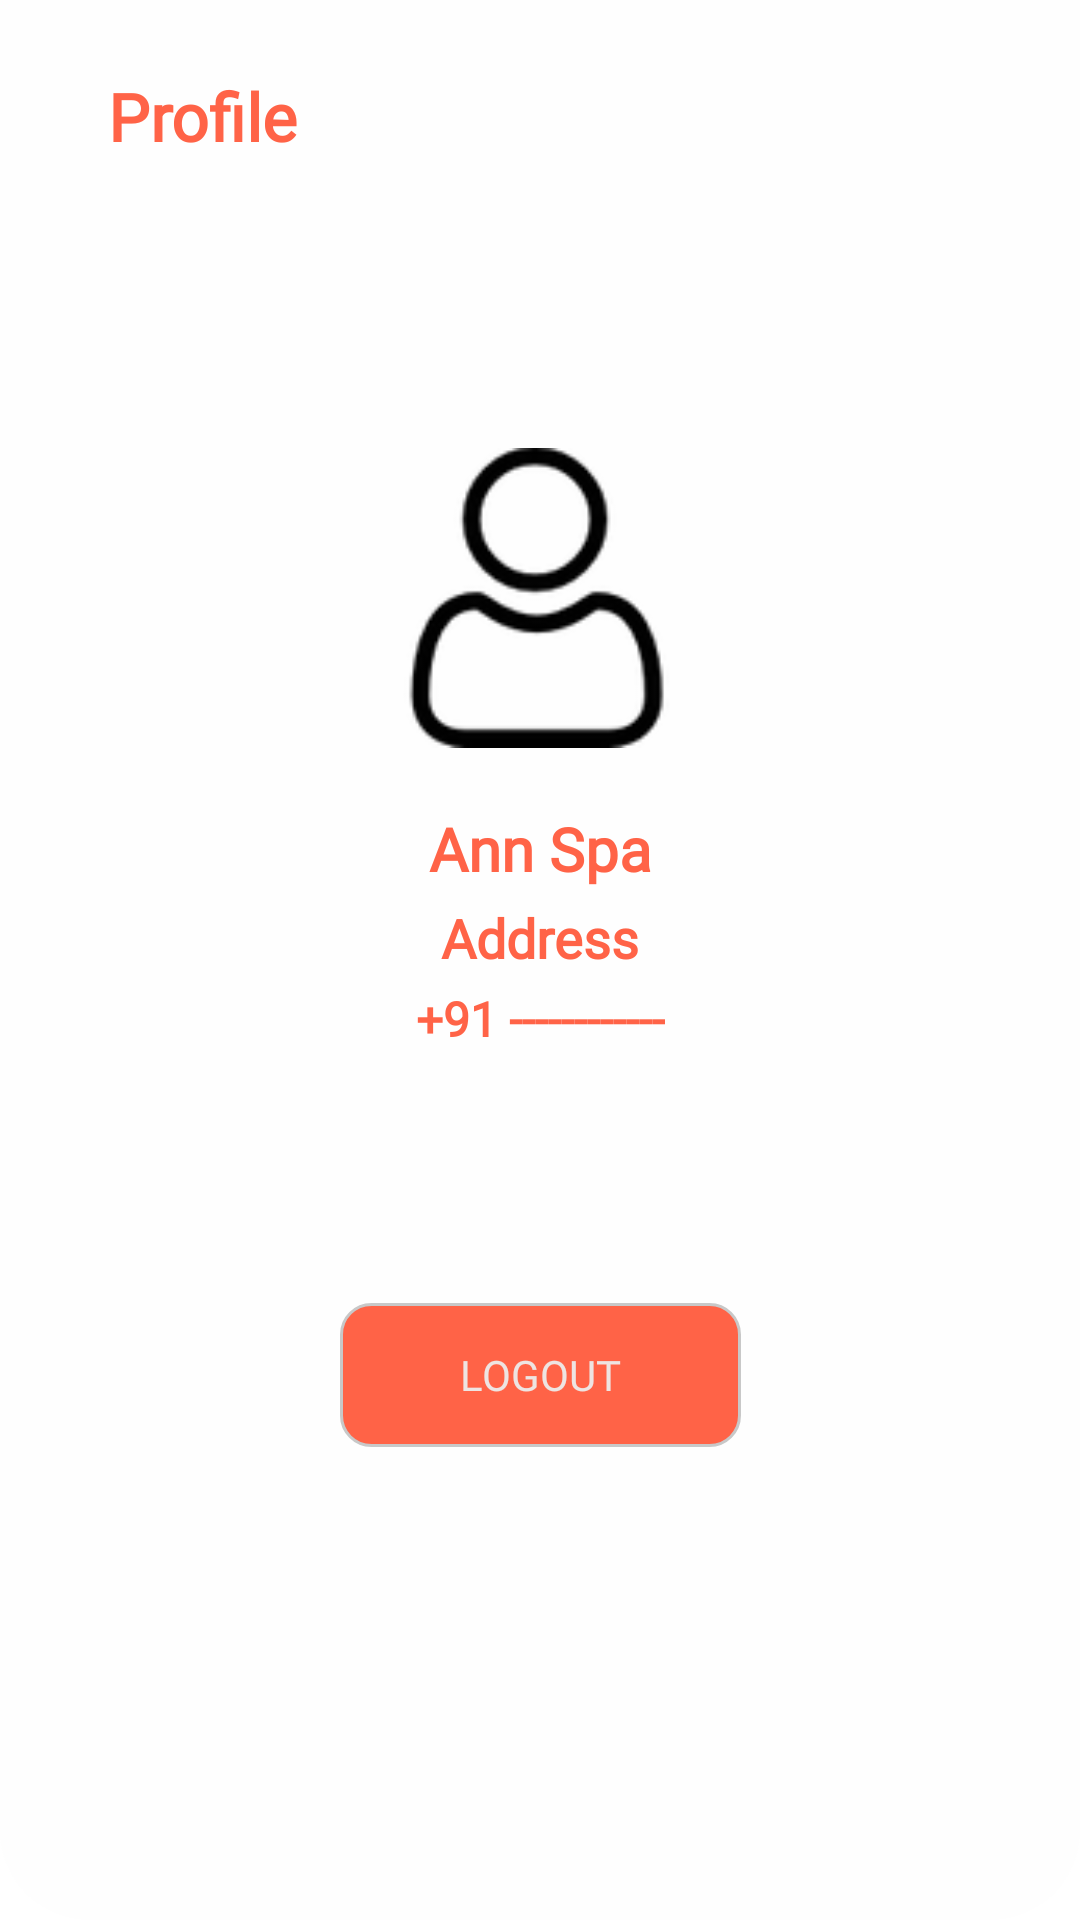

Named icons in this screenshot (1080px x 1920px) and their bounding boxes, bbox(x1, y1, x2, y2):
profile: bbox(409, 448, 664, 748)
